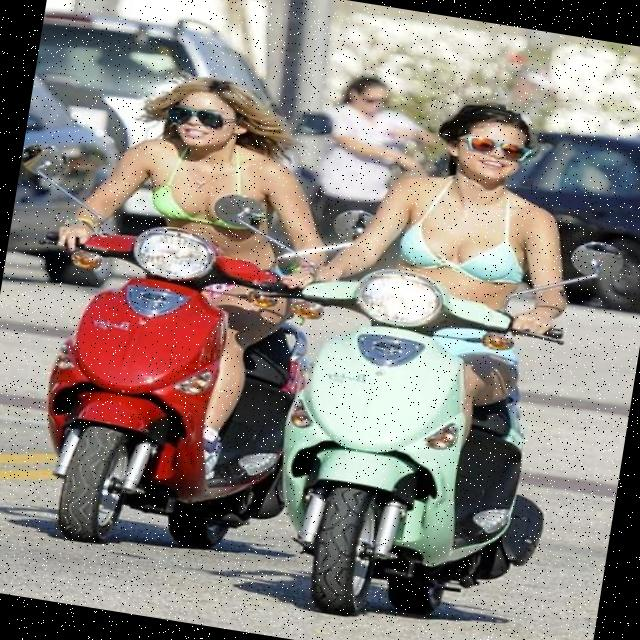No helmet: (164, 57, 266, 170), (442, 94, 554, 190)
